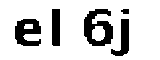6: (80, 8, 115, 49)
e: (11, 17, 43, 53)
j: (114, 7, 139, 60)
l: (47, 4, 69, 50)
